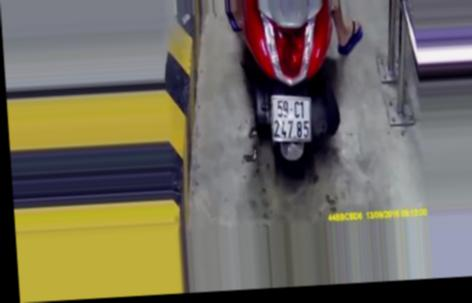License_Plate: (266, 91, 315, 145)
